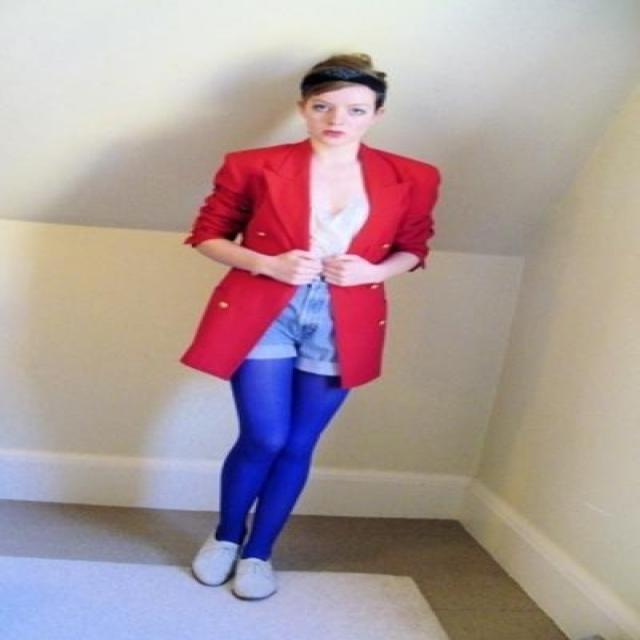jacket: (181, 137, 438, 388)
shirt: (290, 179, 368, 312)
shoe: (184, 538, 272, 595)
